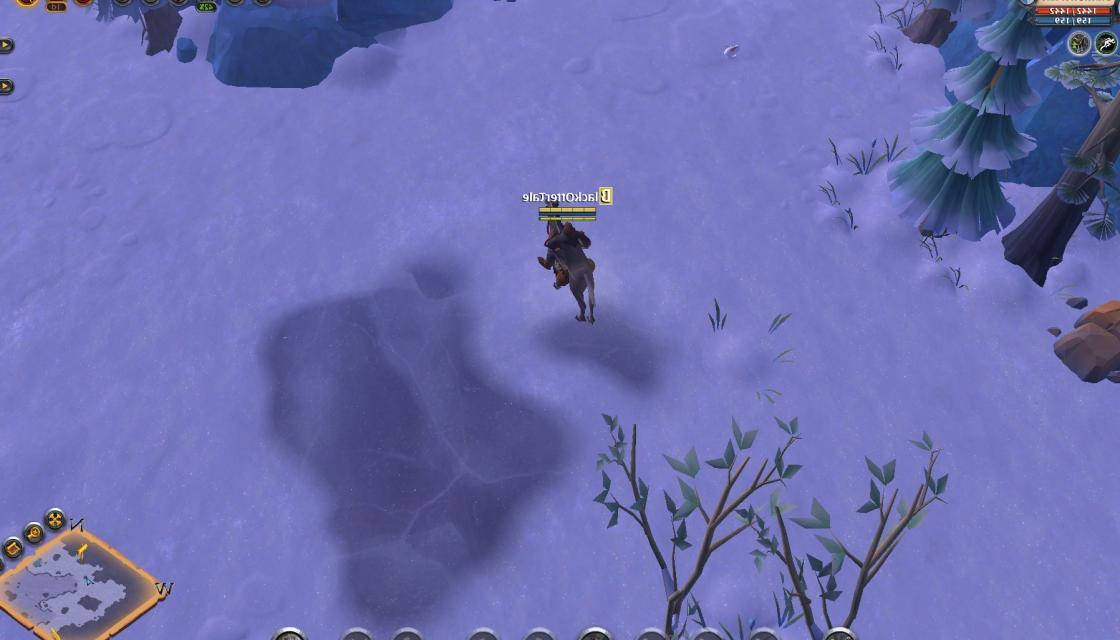limestone: (1047, 294, 1120, 390)
